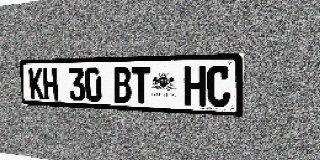0: (84, 68, 102, 102)
3: (68, 68, 85, 101)
B: (113, 67, 132, 103)
C: (207, 66, 231, 107)
H: (184, 66, 206, 106), (42, 68, 58, 100)
K: (28, 68, 44, 100)
T: (131, 67, 151, 104)
